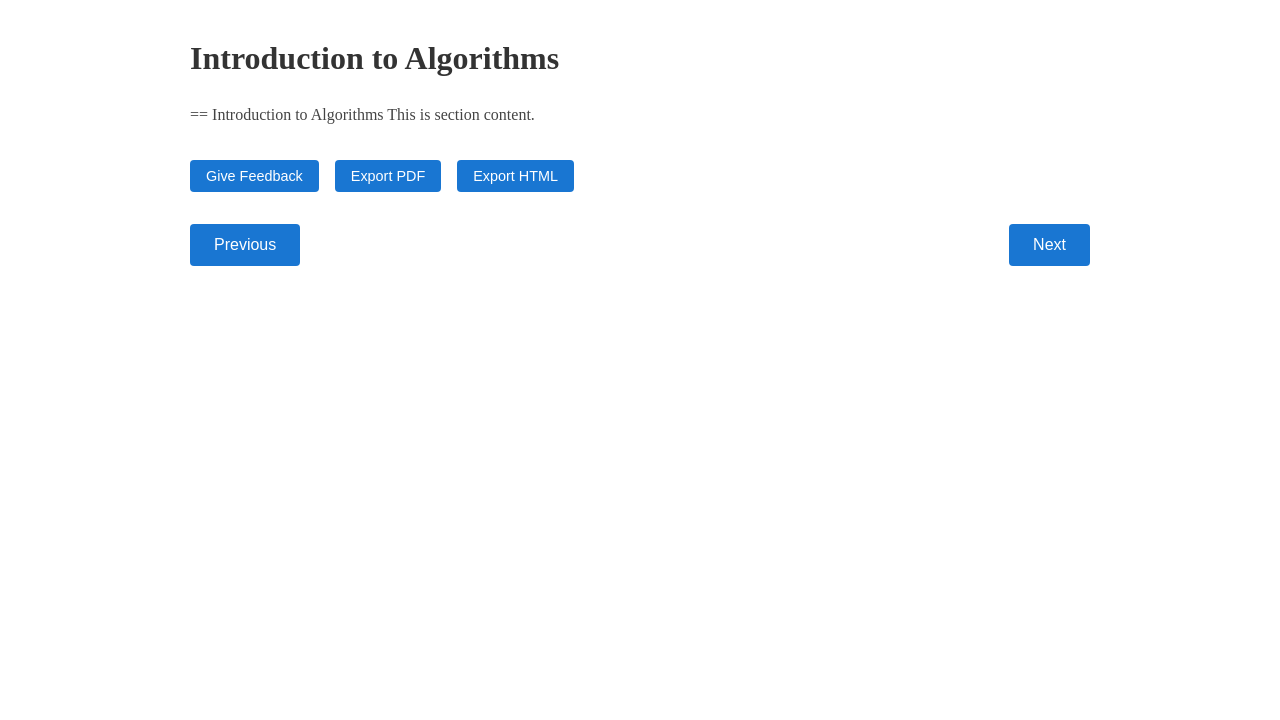
Test: SectionReaderView › feedback modal closes on HTTP 201 response
This screenshot has width=1280, height=720.
Click the button with class "feedback-button".
click(254, 176)  # box 190,160 -> 319,192
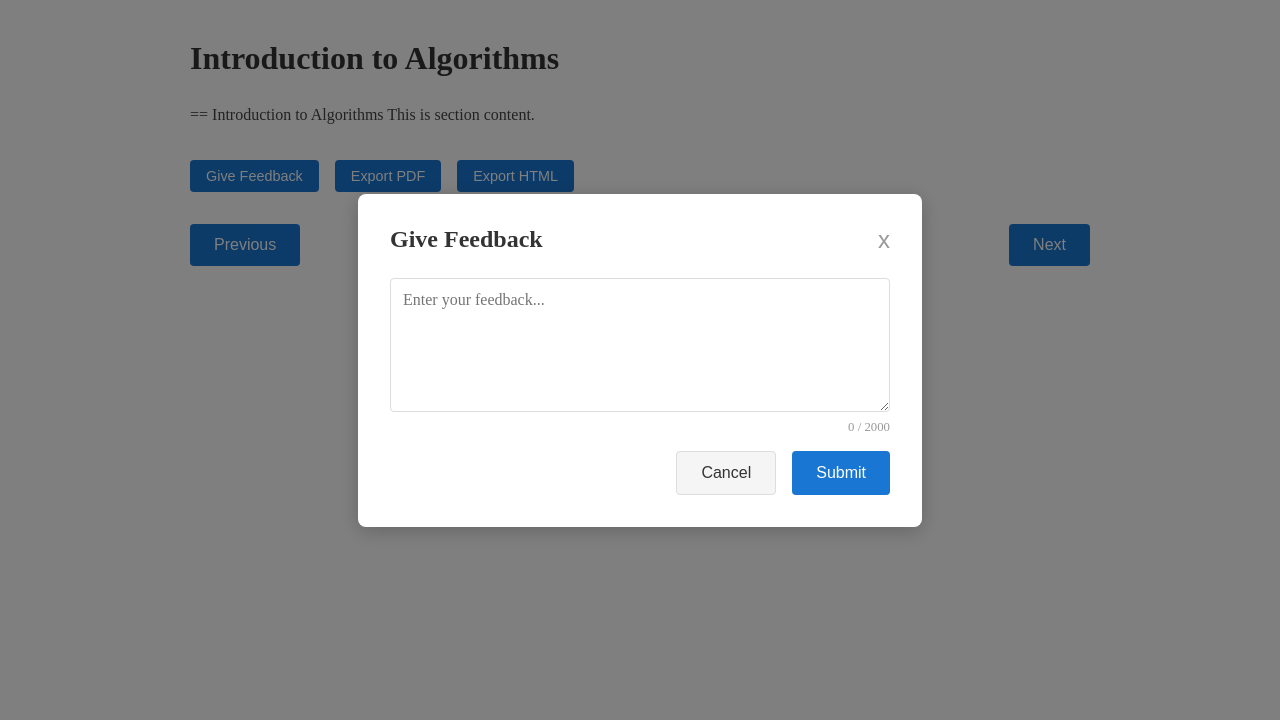
Expected: the element with class "modal" is shown, 358,194 -> 922,526
Type "Great section!" into the text box with class "feedback-textarea".
click(640, 344); type("Great section!")  # box 390,278 -> 890,412
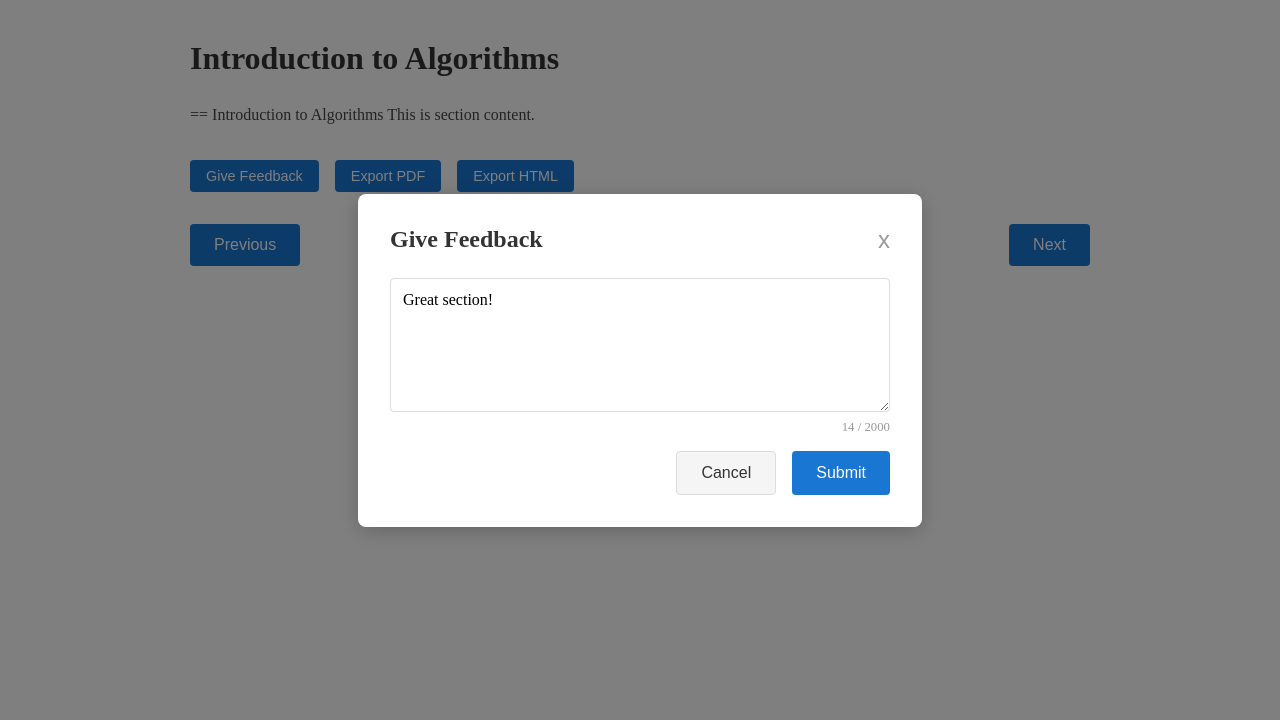
Click the button with class "submit-button".
click(841, 472)  # box 792,450 -> 890,494
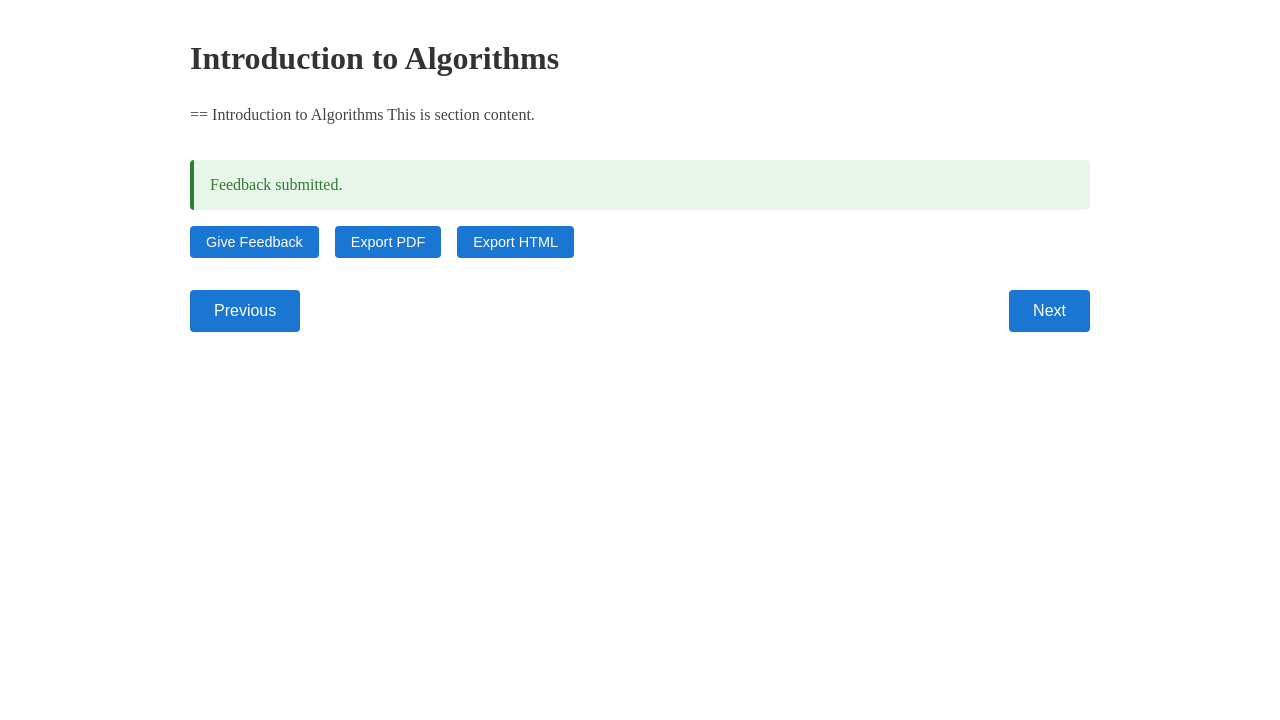
Expected: the text "Feedback submitted." is shown, 190,160 -> 1090,210
